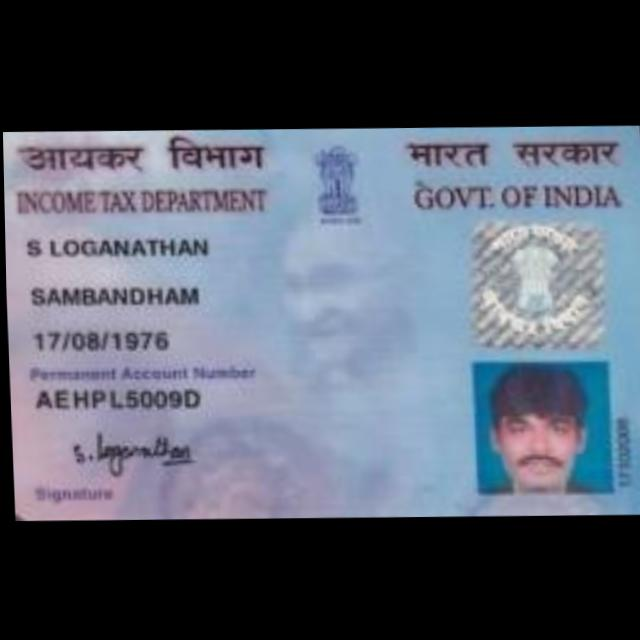pan: (2, 120, 640, 524)
